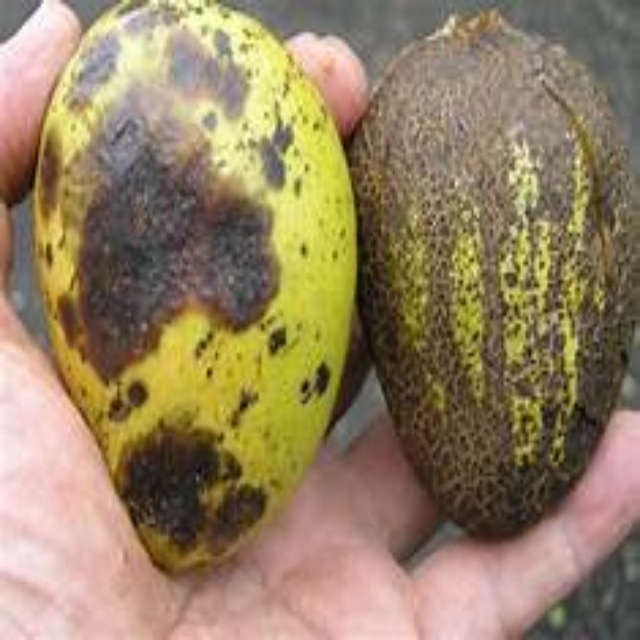mango: (28, 2, 357, 571), (370, 20, 629, 524)
